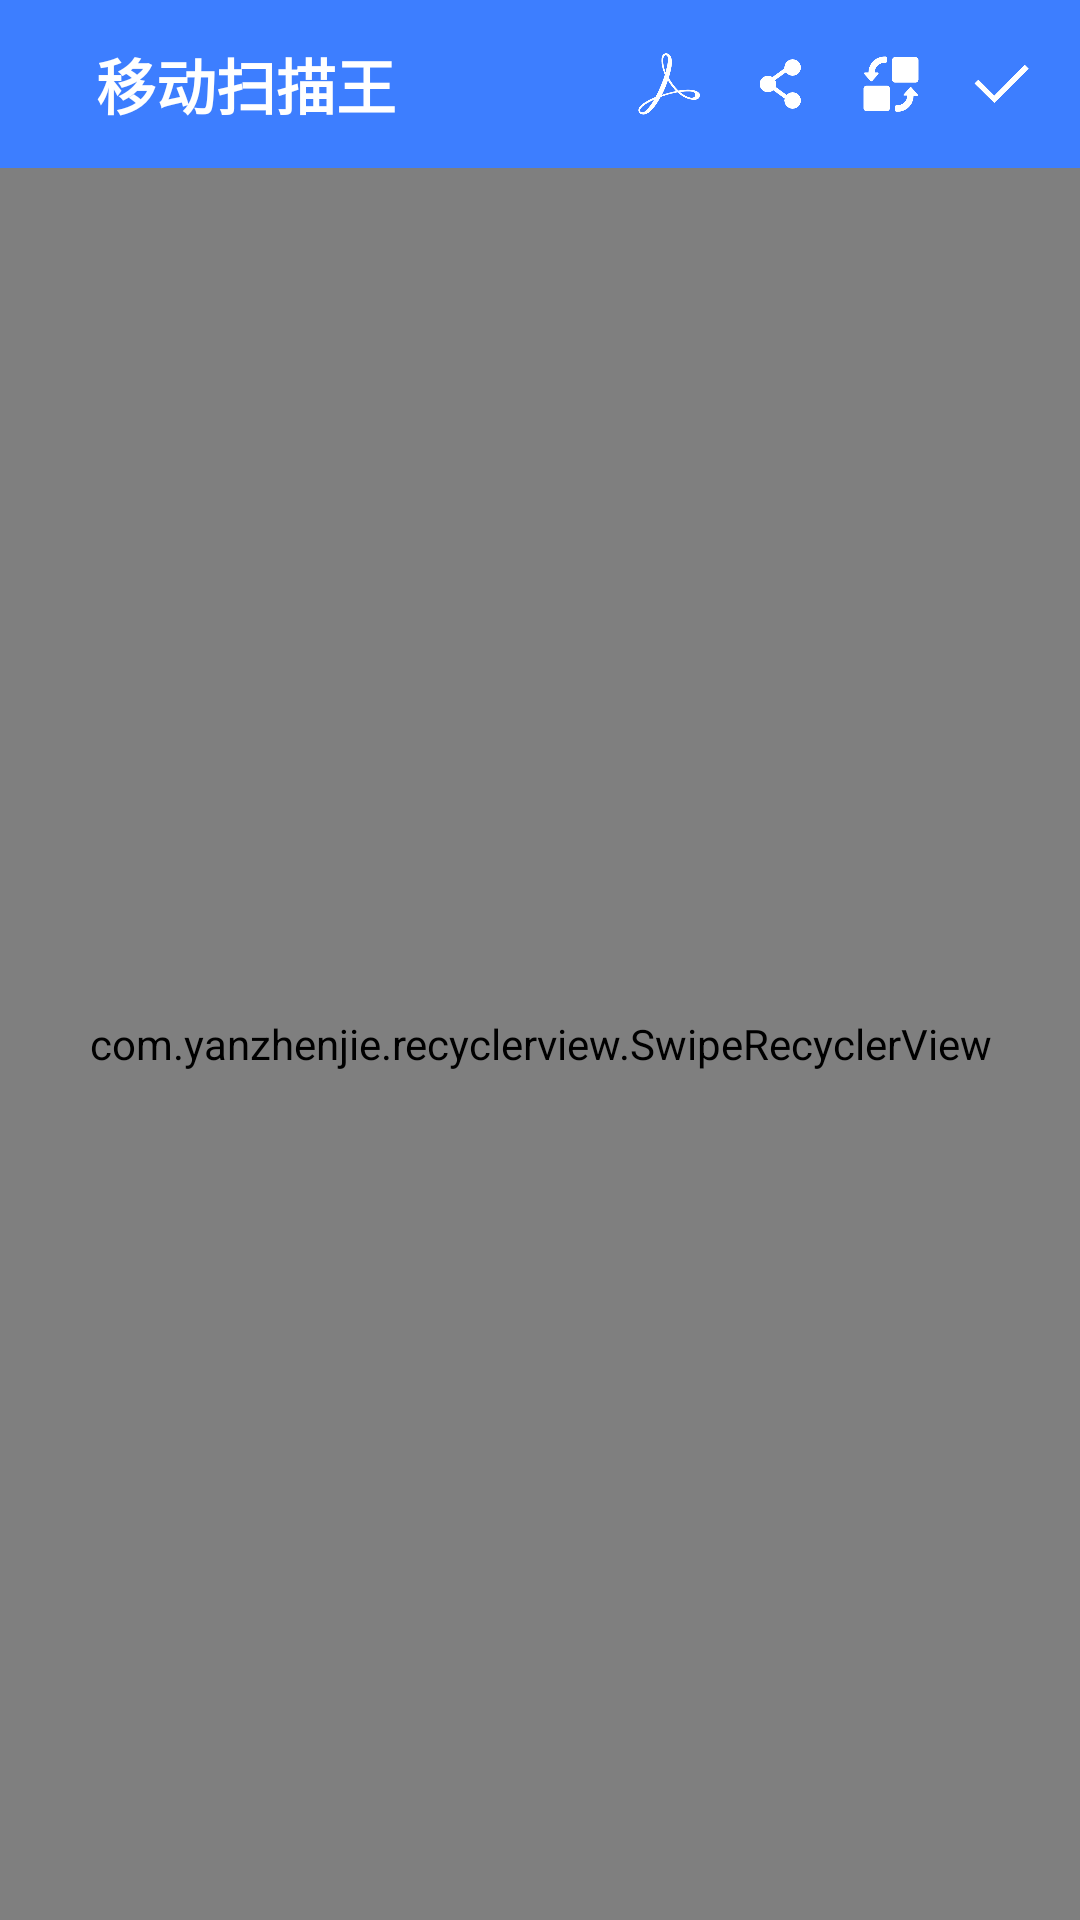

Where to tap for icons on this 1080*1920 app screen, as [x,y]:
ensure: [1001,84]
share: [780,84]
transform: [891,84]
